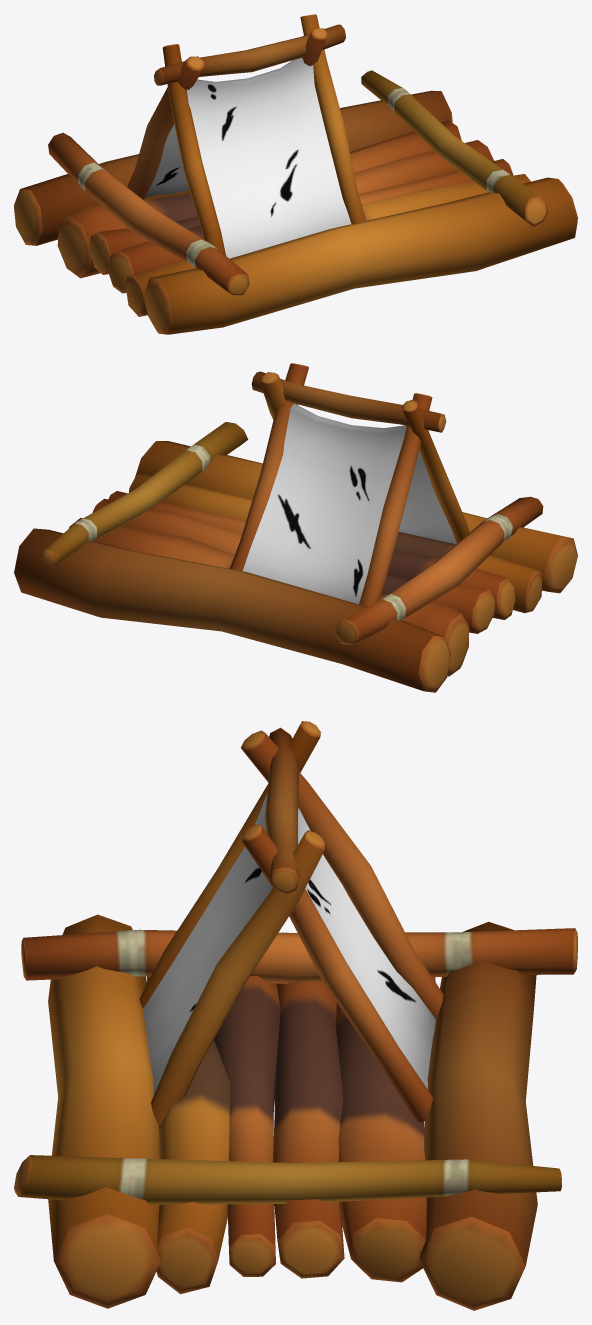
Rendered from 3D_Raft_V001.obj.
The picture shows the model from 3 angles, top to bottom: view 1: azimuth 30°, elevation 25°; view 2: azimuth 150°, elevation 25°; view 3: azimuth 270°, elevation 25°; orthographic projection. The views are drawn at different scales.
Visible parts, largest first — view 1: RAFT_MODEL_V001_Cylinder; view 2: RAFT_MODEL_V001_Cylinder; view 3: RAFT_MODEL_V001_Cylinder.
Boxes of the visible parts, bbox=[...] form: RAFT_MODEL_V001_Cylinder: bbox=[14, 14, 577, 334]; RAFT_MODEL_V001_Cylinder: bbox=[14, 363, 577, 692]; RAFT_MODEL_V001_Cylinder: bbox=[14, 721, 577, 1310].
Size of the model in its own units: 2.14 by 1.16 by 1.64.
